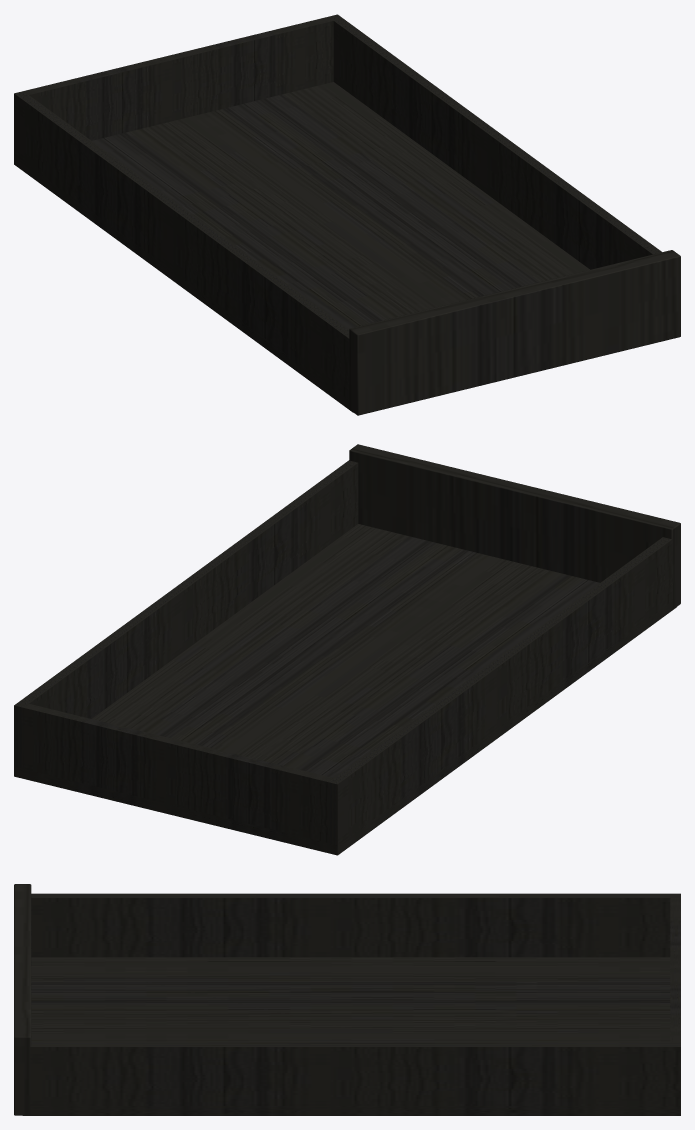
3 renders of one model, top to bottom at view 1: azimuth 30°, elevation 25°; view 2: azimuth 150°, elevation 25°; view 3: azimuth 270°, elevation 25°, orthographic. The views are drawn at different scales.
Parts seen in each view (by area): view 1: part5:drawer 1; view 2: part5:drawer 1; view 3: part5:drawer 1.
Boxes of the visible parts, bbox=[...] form: part5:drawer 1: bbox=[14, 14, 680, 415]; part5:drawer 1: bbox=[14, 444, 680, 855]; part5:drawer 1: bbox=[14, 884, 680, 1115].
Size of the model in its own units: 0.4238 by 0.1015 by 0.7794.
Materials: 1 (1 with a texture image).
